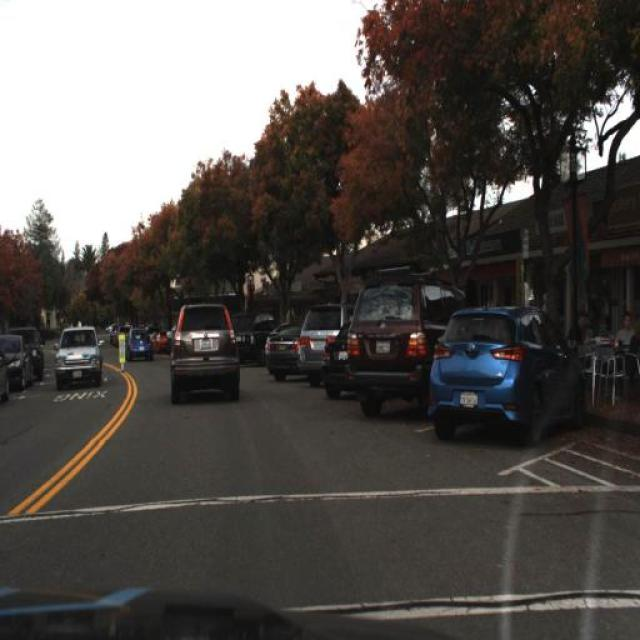car: (426, 300, 592, 446), (344, 258, 435, 422), (162, 300, 248, 402), (296, 296, 355, 386), (46, 319, 110, 395), (318, 313, 357, 403), (260, 314, 302, 388), (56, 324, 103, 390), (322, 318, 352, 398), (228, 314, 270, 370), (0, 329, 34, 395), (122, 324, 158, 366)
trafficLight: (568, 308, 594, 399), (616, 308, 640, 398)
